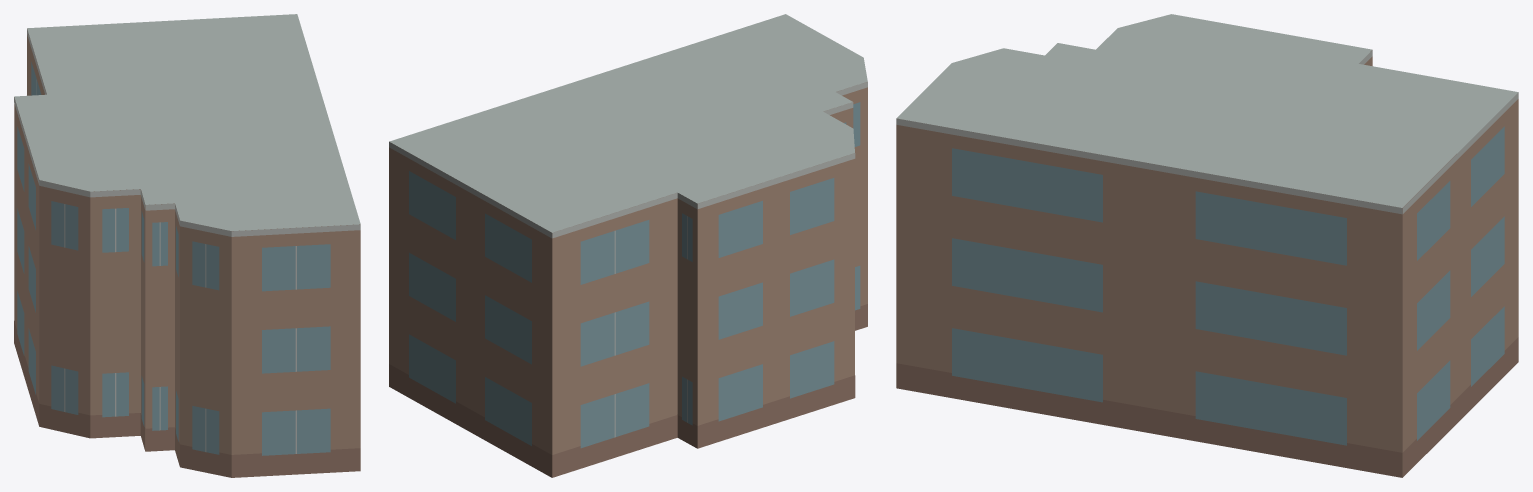
The model's file is survey-upis-32683210.glb.
3 views of the same model, side by side, from view 1: azimuth 30°, elevation 25°; view 2: azimuth 150°, elevation 25°; view 3: azimuth 270°, elevation 25° (orthographic). The views are drawn at different scales.
Parts seen in each view (by area): view 1: survey-upis-32683210.tmp; view 2: survey-upis-32683210.tmp; view 3: survey-upis-32683210.tmp.
Boxes of the visible parts, x1,y1,x2,y2 form: survey-upis-32683210.tmp: [14, 14, 360, 477]; survey-upis-32683210.tmp: [389, 14, 867, 477]; survey-upis-32683210.tmp: [896, 14, 1518, 477].
Size of the model in its own units: 16.05 by 10.4 by 21.74.
